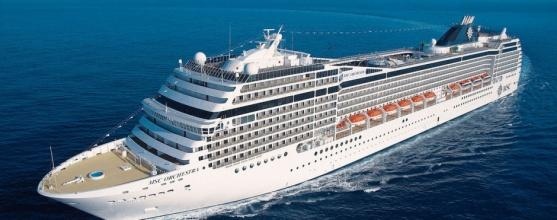youlun: (34, 21, 525, 219)
